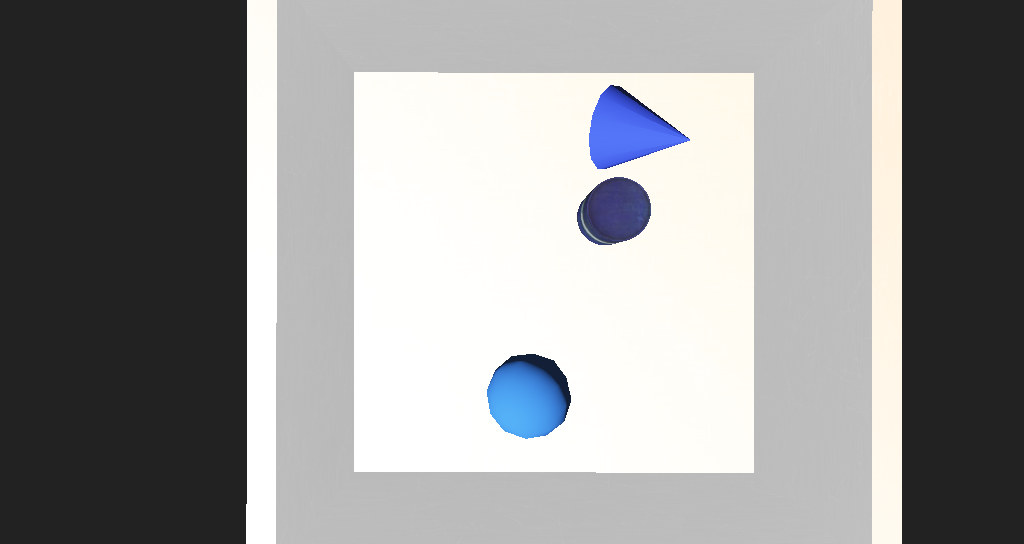cone: (529, 222, 576, 255)
cylinder: (522, 165, 637, 227)
sphere: (451, 313, 519, 356)
